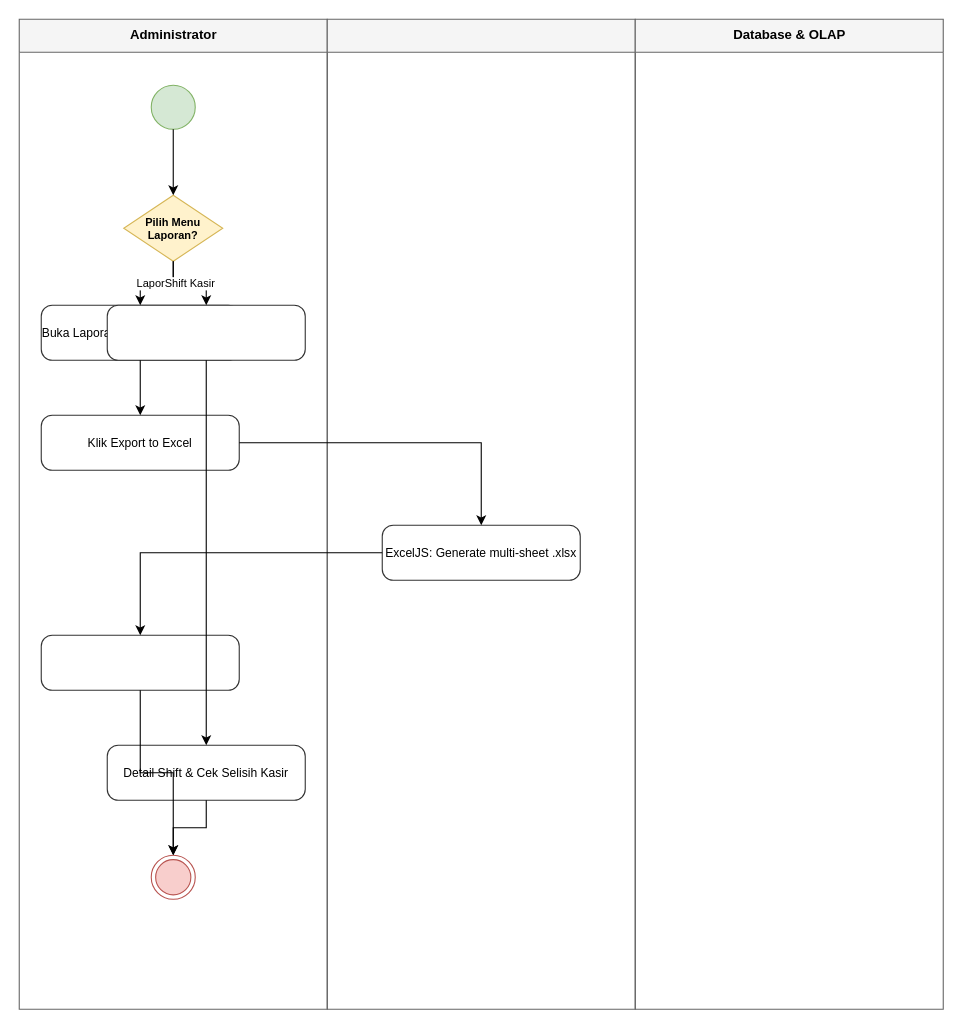
The diagram is 963 pixels wide and 1029 high, and some of its shapes have lost their labels. Each missing label, with the box of its shape:
Buka Monitoring Shift Kasir: (106, 304, 305, 360)
Report Engine: (326, 18, 635, 1009)
Unduh File Excel Penjualan: (40, 634, 239, 690)
